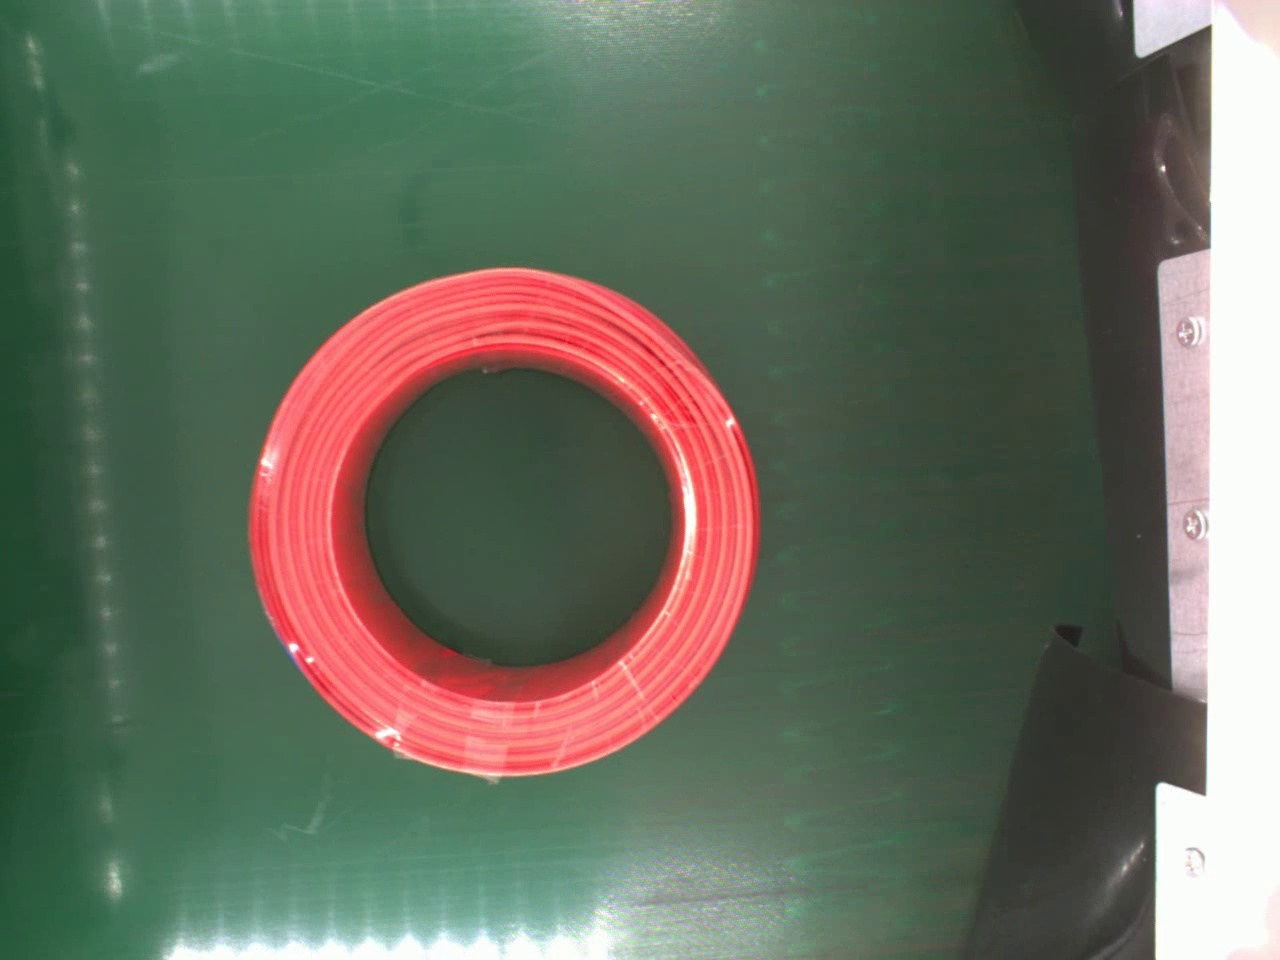red: (247, 263, 765, 782)
